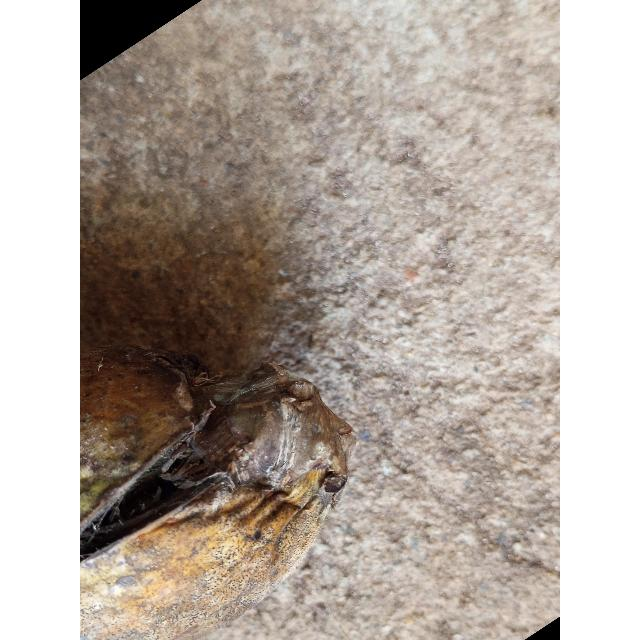damaged: (80, 345, 355, 640)
